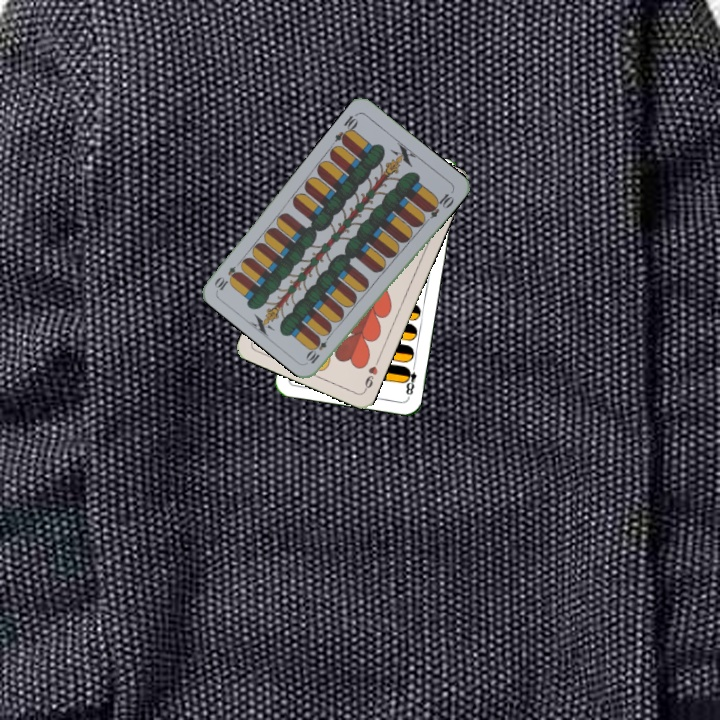E10: (331, 109, 361, 147), (303, 330, 334, 366)
E8: (400, 359, 419, 400)
H9: (360, 355, 382, 393)
